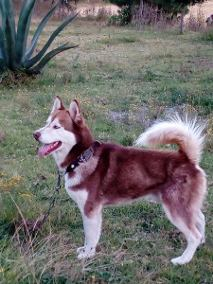husky: (24, 90, 127, 221)
